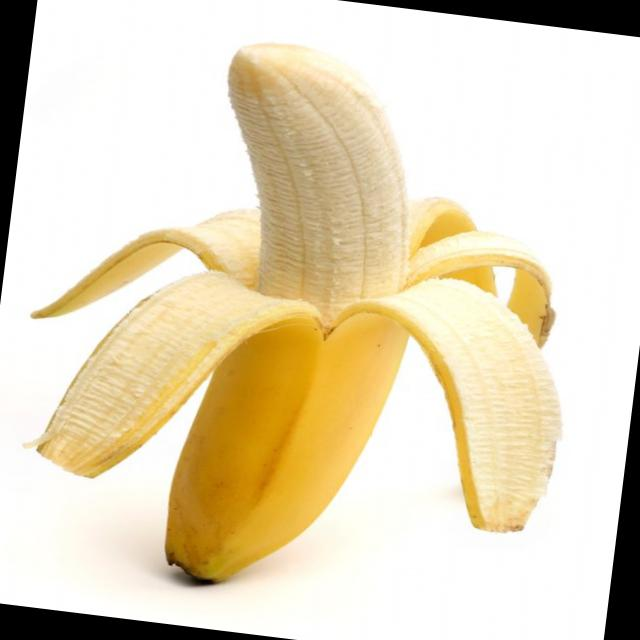banana: (149, 24, 422, 614)
